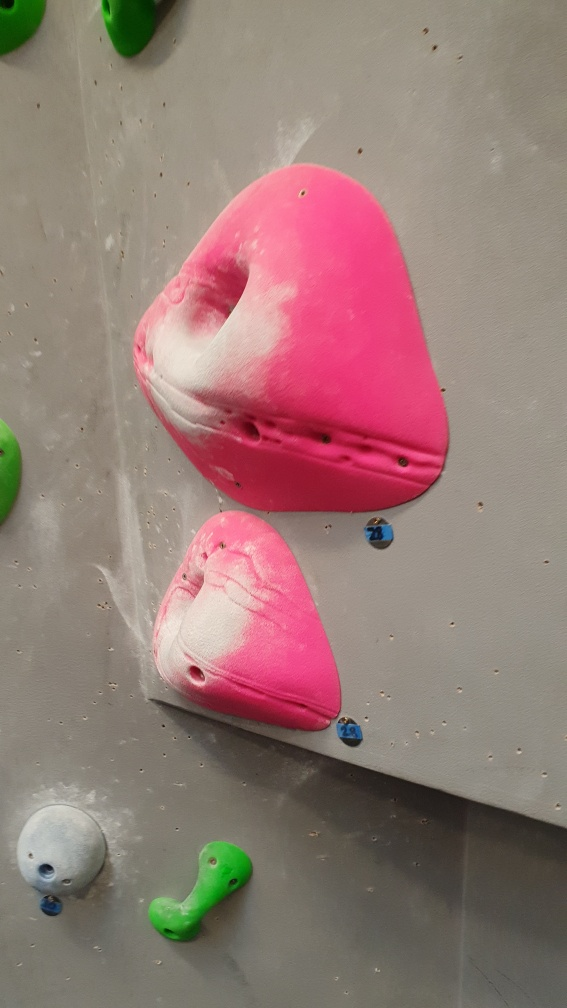Hand Start: (364, 513, 401, 556), (331, 712, 368, 755), (39, 894, 65, 918)
Pocket: (129, 159, 449, 516), (147, 510, 344, 731)
Sloper: (16, 798, 110, 892)
